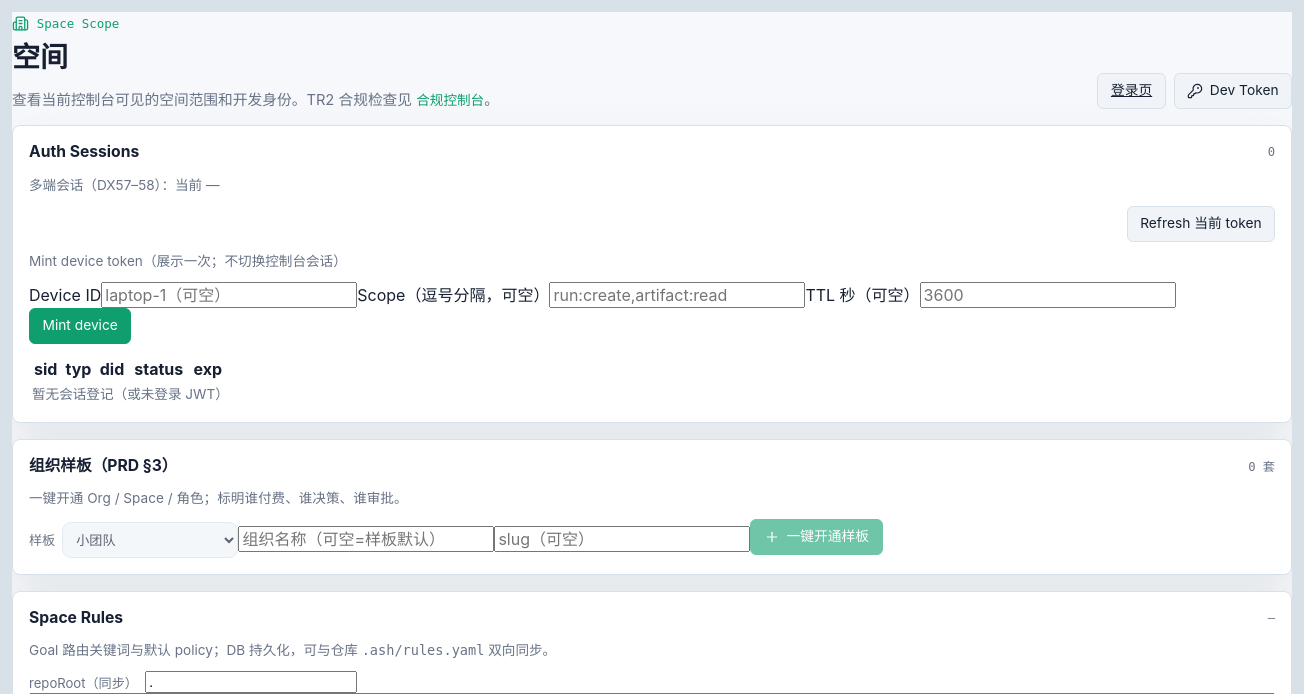
Test case: SpacePage › disables device mint when TTL is not a positive integer
Type "abc" into the field with test id "device-mint-ttl" at (1048,295), box [920,282,1176,308]
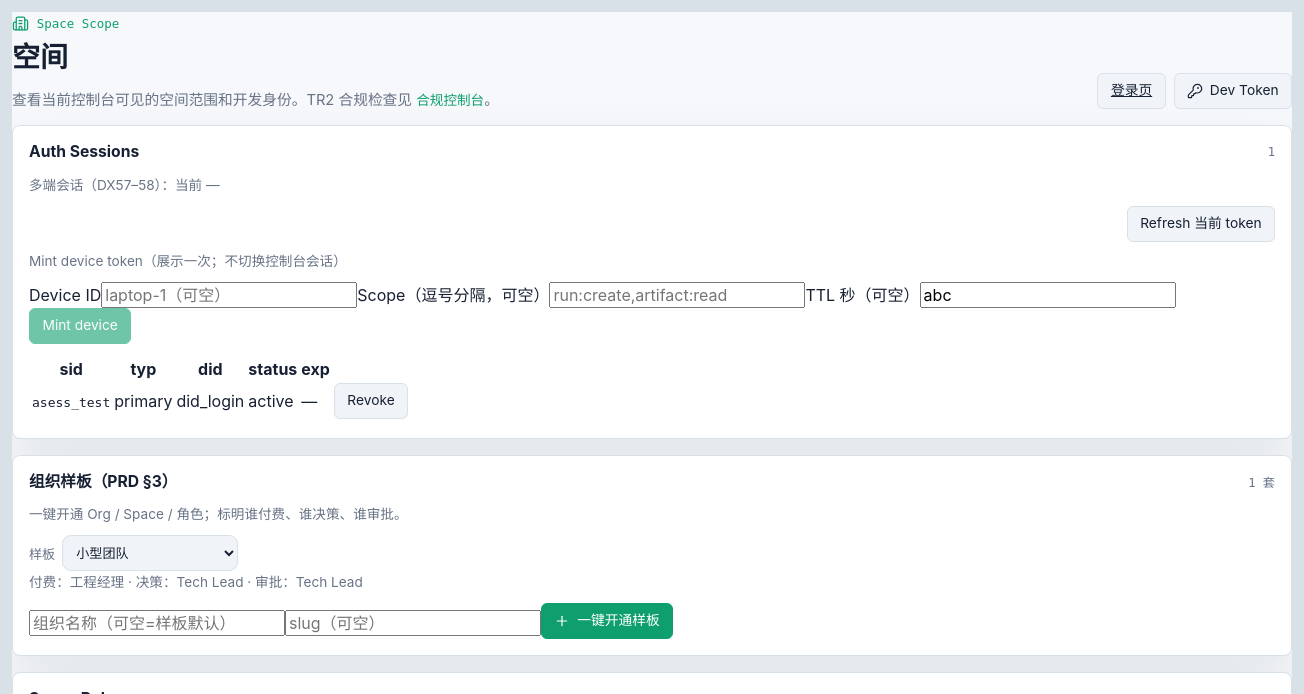
Check: the button with test id "device-mint-submit" is disabled, box [29,308,131,344]
Replace the text in the field with test id "device-mint-ttl" with "-1" at (1048,295), box [920,282,1176,308]
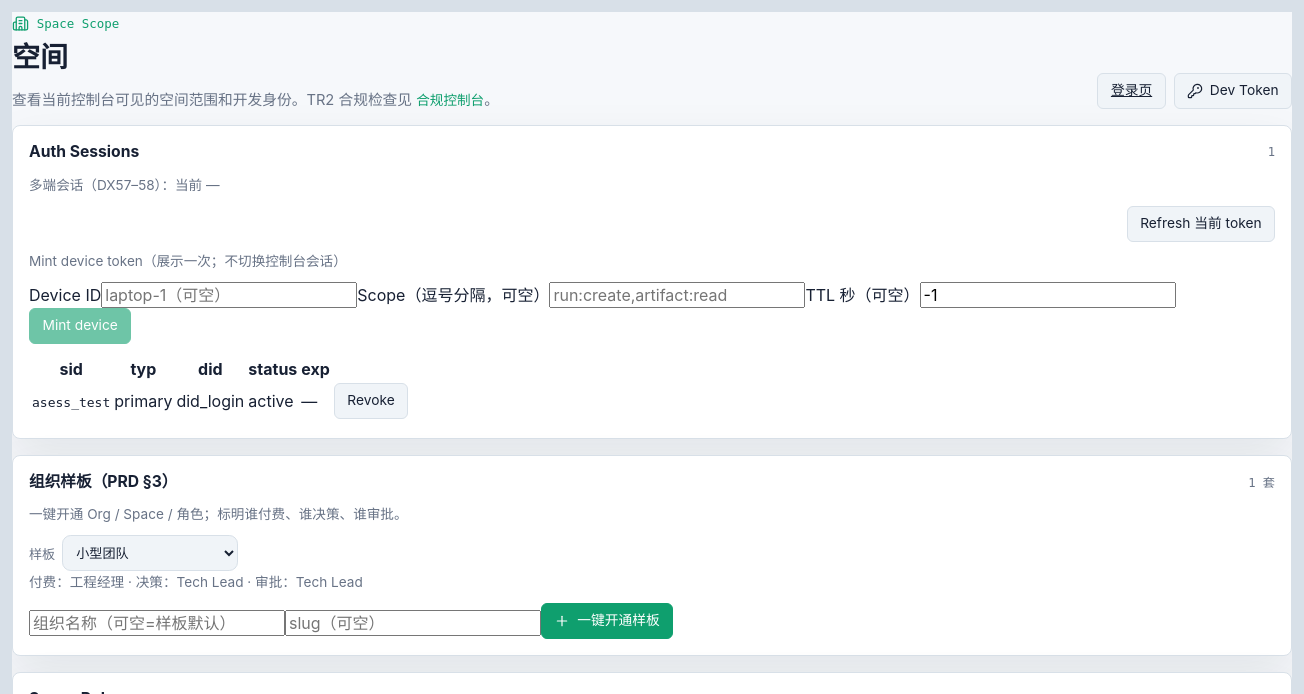
Check: the button with test id "device-mint-submit" is disabled, box [29,308,131,344]
Replace the text in the field with test id "device-mint-ttl" with "0" at (1048,295), box [920,282,1176,308]
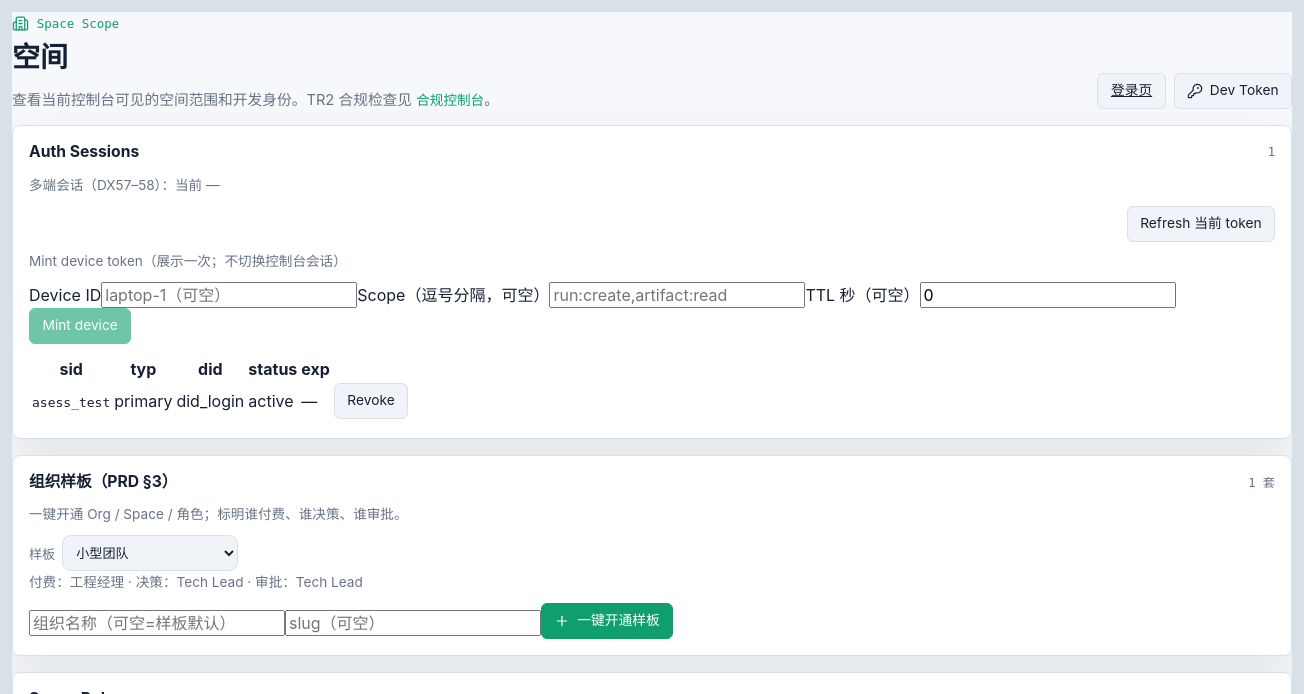
Check: the button with test id "device-mint-submit" is disabled, box [29,308,131,344]
Replace the text in the field with test id "device-mint-ttl" with "3600" at (1048,295), box [920,282,1176,308]
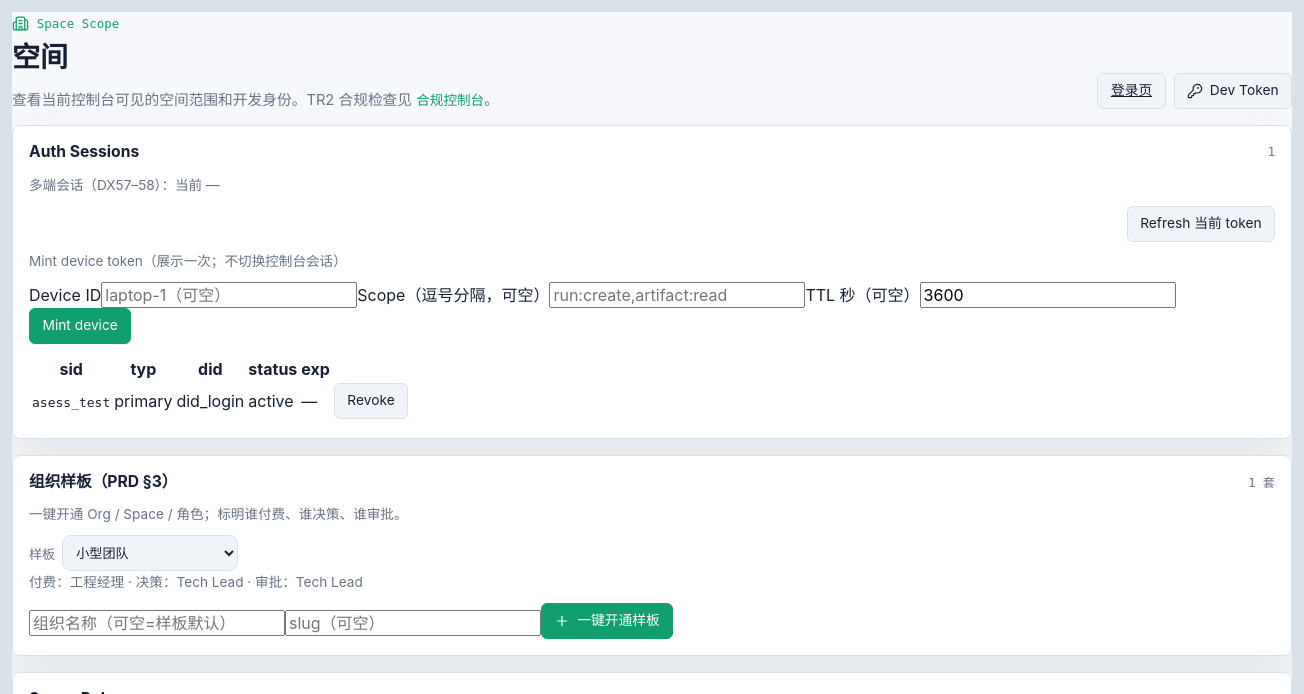
Check: the button with test id "device-mint-submit" is enabled, box [29,308,131,344]
